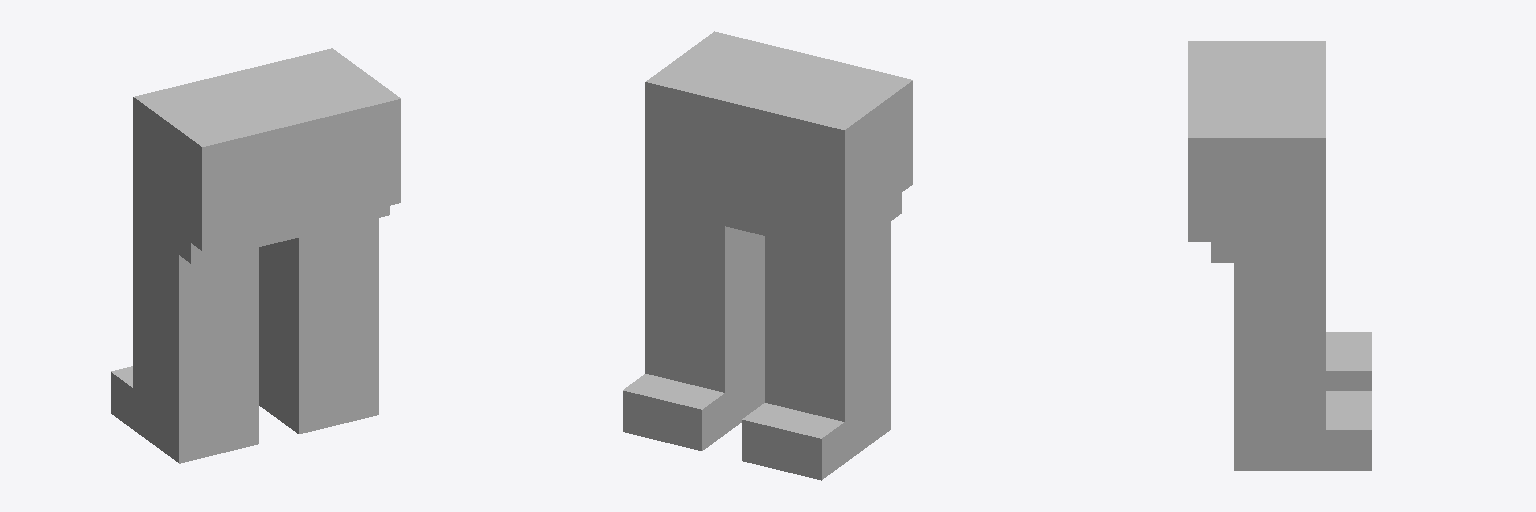
Rendered from player-3.obj.
3 views of the same model, side by side, from view 1: azimuth 30°, elevation 25°; view 2: azimuth 150°, elevation 25°; view 3: azimuth 270°, elevation 25° (orthographic).
Visible parts, largest first — view 1: object 1; view 2: object 1; view 3: object 1.
Part boxes in pixels (x1,y1,x2,y2): object 1: (111, 48, 400, 463); object 1: (623, 31, 912, 480); object 1: (1188, 41, 1371, 470).
Size of the model in its own units: 1 by 1.6 by 0.8.